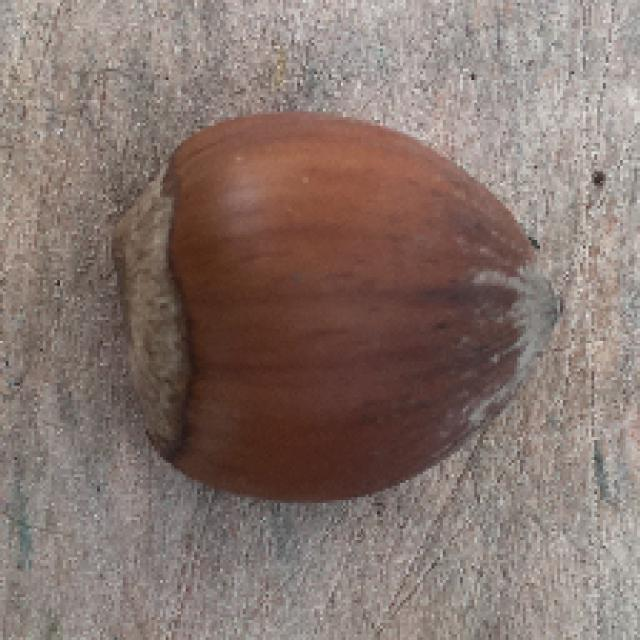qualityHazelnut: (92, 115, 567, 501)
